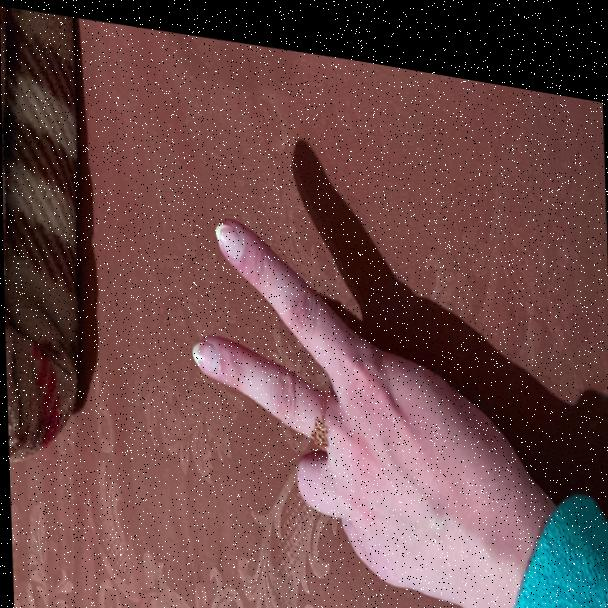two: (179, 163, 519, 608)
